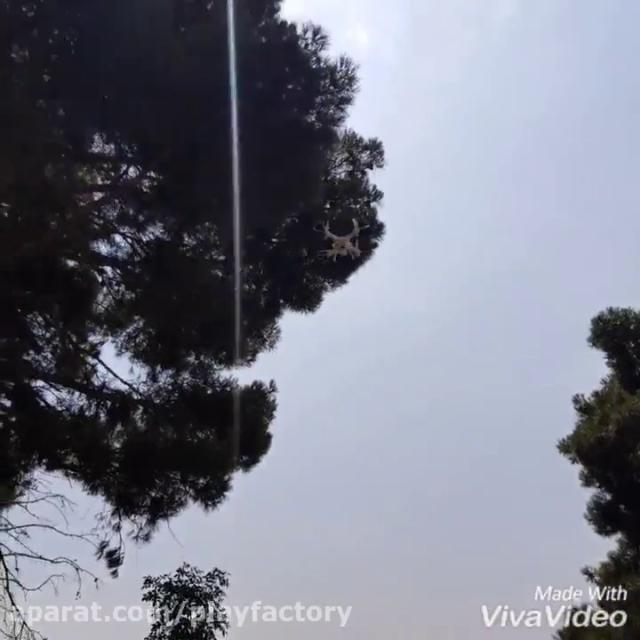drone: (309, 214, 372, 264)
